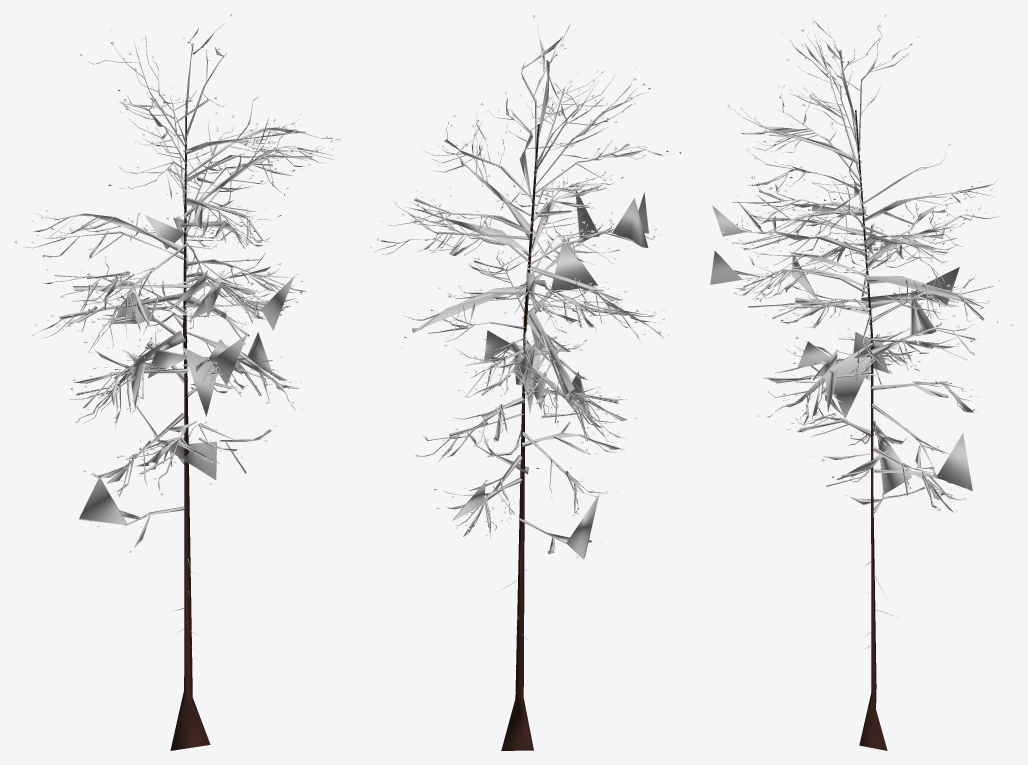
Rendered from pine_a_lod2.obj.
3 views of the same model, side by side, from view 1: azimuth 30°, elevation 25°; view 2: azimuth 150°, elevation 25°; view 3: azimuth 270°, elevation 25° (orthographic). The views are drawn at different scales.
Parts seen in each view (by area): view 1: pine_a_lod2; view 2: pine_a_lod2; view 3: pine_a_lod2.
Boxes of the visible parts, x1=… form: pine_a_lod2: x1=14, y1=14, x2=340, y2=750; pine_a_lod2: x1=370, y1=14, x2=681, y2=750; pine_a_lod2: x1=710, y1=14, x2=1012, y2=750.
Size of the model in its own units: 275 by 789 by 301.
